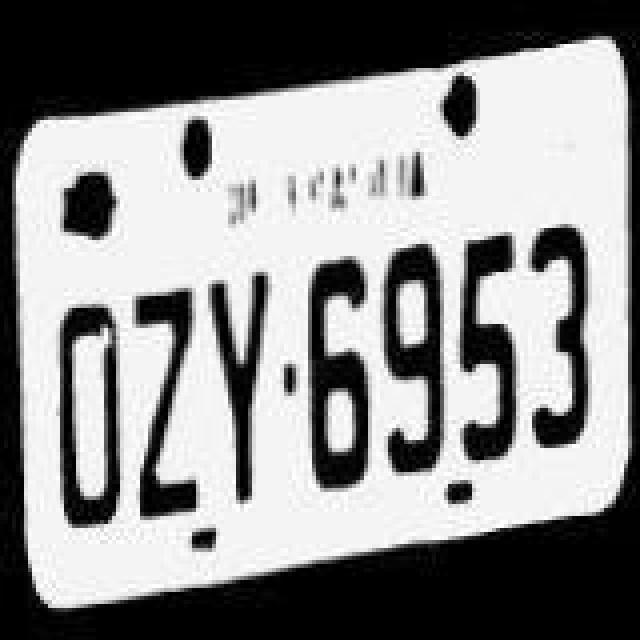3: (520, 202, 596, 462)
5: (446, 212, 526, 480)
6: (300, 244, 376, 520)
9: (380, 226, 448, 498)
O: (52, 286, 128, 562)
Y: (210, 264, 282, 532)
Z: (130, 278, 210, 550)
